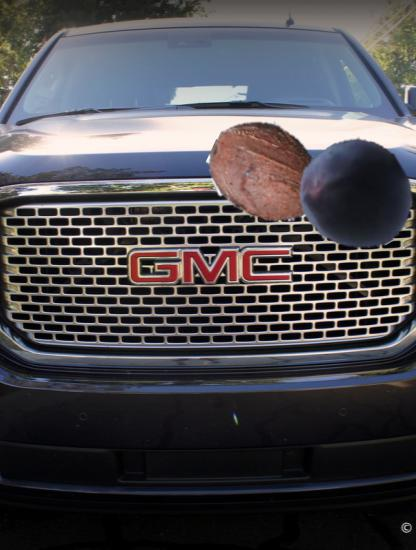Cocos: (208, 111, 327, 230)
Plum: (300, 139, 415, 254)
